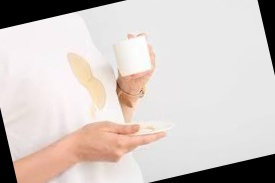coffee: (71, 52, 108, 113)
